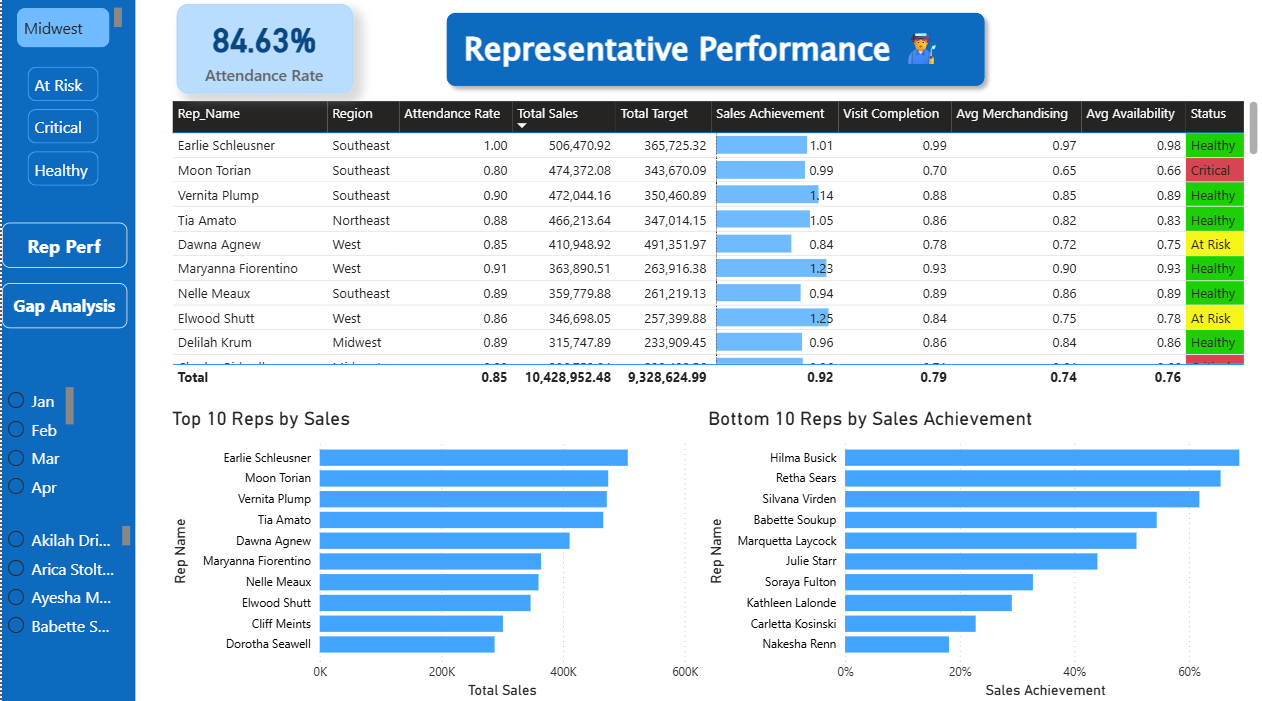

This screenshot's page, from the dashboard's own definition file:
{"tool":"powerbi","page":{"name":"Page 2","canvas":[1280,720],"ordinal":1},"visuals":[{"type":"barChart","title":"Top 10 Reps by Sales","fields":{"Category":["tblRepPerf.Rep_Name"],"Y":["Sum(tblRepPerf.Total_Sales)"]},"box":[167.6,420.4,544.7,300.3],"z":0},{"type":"shape","box":[442.7,11.2,564.2,92.2],"z":1000},{"type":"barChart","title":"Bottom 10 Reps by Sales Achievement","fields":{"Category":["tblRepPerf.Rep_Name"],"Y":["Sum(tblGapAnalysis.Sales_Achievement)"]},"box":[712.3,420.4,568.4,300.3],"z":2000},{"type":"tableEx","fields":{"Values":["tblGapAnalysis.Rep_Name","tblGapAnalysis.Region","tblCleanOrders.Attendance Rate","Sum(tblRepPerf.Total_Sales)","tblCleanOrders.Total Target","tblCleanOrders.Sales Achievement","tblCleanOrders.Visit Completion","tblCleanOrders.Avg Merchandising","tblCleanOrders.Avg Availability","tblGapAnalysis.Status"]},"box":[167.6,104.7,1113.1,301.7],"z":3000},{"type":"card","fields":{"Values":["tblCleanOrders.Attendance Rate"]},"box":[177.4,11.2,178.8,90.8],"z":4000},{"type":"shape","box":[0,0,135.5,720.7],"z":5000},{"type":"actionButton","box":[0,233.2,127.1,46.1],"z":6000},{"type":"actionButton","box":[0,294.7,127.1,46.1],"z":7000},{"type":"listSlicer","fields":{"Values":["tblCleanOrders.Region_Name"]},"box":[9.8,9.8,117.3,50.3],"z":7001},{"type":"listSlicer","fields":{"Values":["tblCleanOrders.Month_Name"]},"box":[0,395.2,78.2,127.1],"z":7002},{"type":"advancedSlicerVisual","fields":{"Values":["tblGapAnalysis.Status"]},"box":[20.9,69.8,82.4,131.3],"z":7003},{"type":"listSlicer","fields":{"Values":["tblGapAnalysis.Rep_Name"]},"box":[0,536.3,135.5,127.1],"z":7004}]}

Visuals, with their boxes in screenshot pixels (x1, y1, x2, y2), scaled from the page's 1280x720 canvas onto the 1262x701 screenshot:
"Top 10 Reps by Sales" barChart: [165, 409, 702, 700]
shape: [436, 11, 993, 101]
"Bottom 10 Reps by Sales Achievement" barChart: [702, 409, 1261, 700]
tableEx - tblGapAnalysis.Rep_Name x tblGapAnalysis.Region: [165, 102, 1261, 396]
card - tblCleanOrders.Attendance Rate: [175, 11, 351, 99]
shape: [0, 0, 134, 700]
actionButton: [0, 227, 125, 272]
actionButton: [0, 287, 125, 332]
listSlicer - tblCleanOrders.Region_Name: [10, 10, 125, 59]
listSlicer - tblCleanOrders.Month_Name: [0, 385, 77, 509]
advancedSlicerVisual - tblGapAnalysis.Status: [21, 68, 102, 196]
listSlicer - tblGapAnalysis.Rep_Name: [0, 522, 134, 646]
